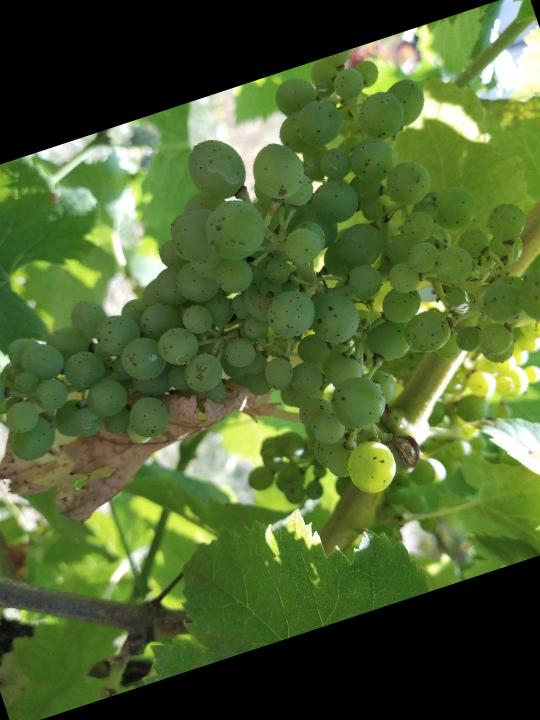grape: (0, 1, 540, 610)
